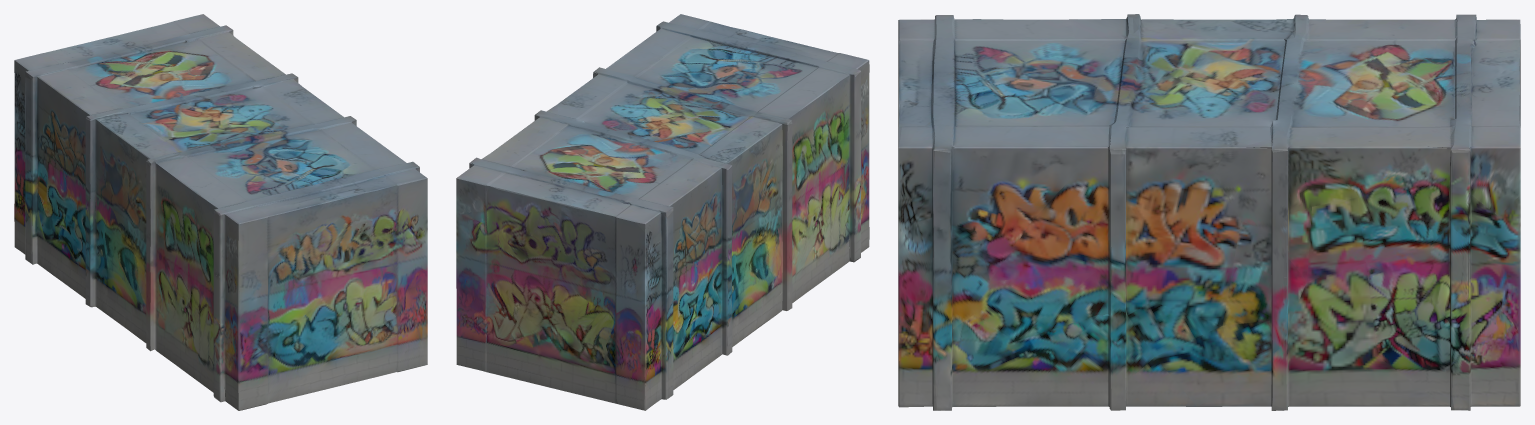
Rendered from muro 2.glb.
3 renders of one model, left to right at view 1: azimuth 30°, elevation 25°; view 2: azimuth 150°, elevation 25°; view 3: azimuth 270°, elevation 25°, orthographic. The views are drawn at different scales.
Parts seen in each view (by area): view 1: tripo_node_20cd2a06-b088-4cc5-ba52-db4552976bed; view 2: tripo_node_20cd2a06-b088-4cc5-ba52-db4552976bed; view 3: tripo_node_20cd2a06-b088-4cc5-ba52-db4552976bed.
Boxes of the visible parts, x1,y1,x2,y2 form: tripo_node_20cd2a06-b088-4cc5-ba52-db4552976bed: (14,14,427,410); tripo_node_20cd2a06-b088-4cc5-ba52-db4552976bed: (456,14,869,410); tripo_node_20cd2a06-b088-4cc5-ba52-db4552976bed: (898,14,1520,410).
Size of the model in its own units: 0.5163 by 0.4663 by 0.9999.
Materials: 1 (1 with a texture image).
